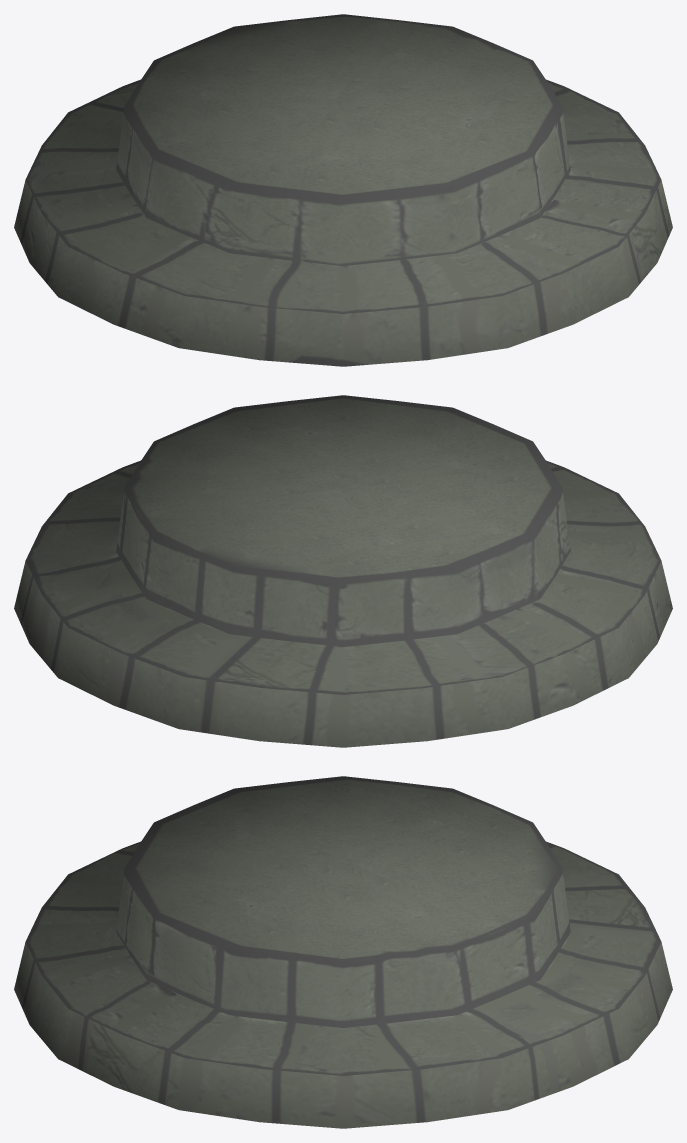
File: platform_player.fbx
The picture shows the model from 3 angles, top to bottom: view 1: azimuth 30°, elevation 25°; view 2: azimuth 150°, elevation 25°; view 3: azimuth 270°, elevation 25°; orthographic projection.
Visible parts, largest first — view 1: platform_player; view 2: platform_player; view 3: platform_player.
Part boxes in pixels (x1,y1,x2,y2): platform_player: (14,14,672,366); platform_player: (14,395,672,747); platform_player: (14,776,672,1128).
Bounding box in the file's own units: 5.45 × 1.13 × 5.45.
